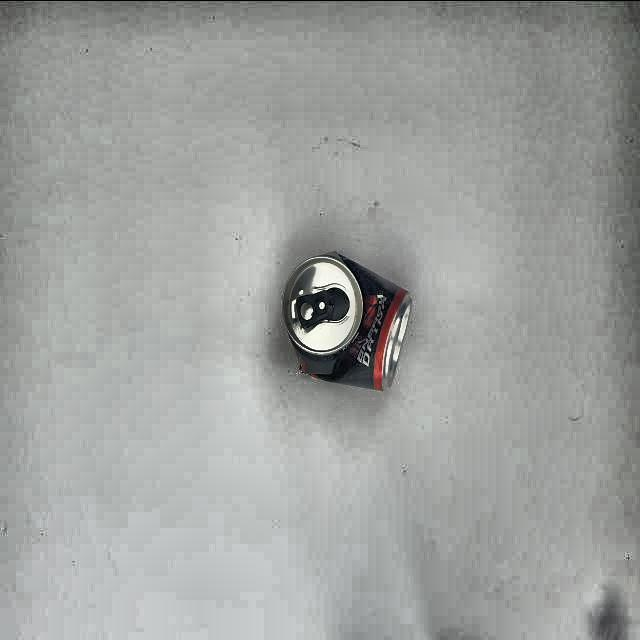metal: (283, 254, 412, 392)
